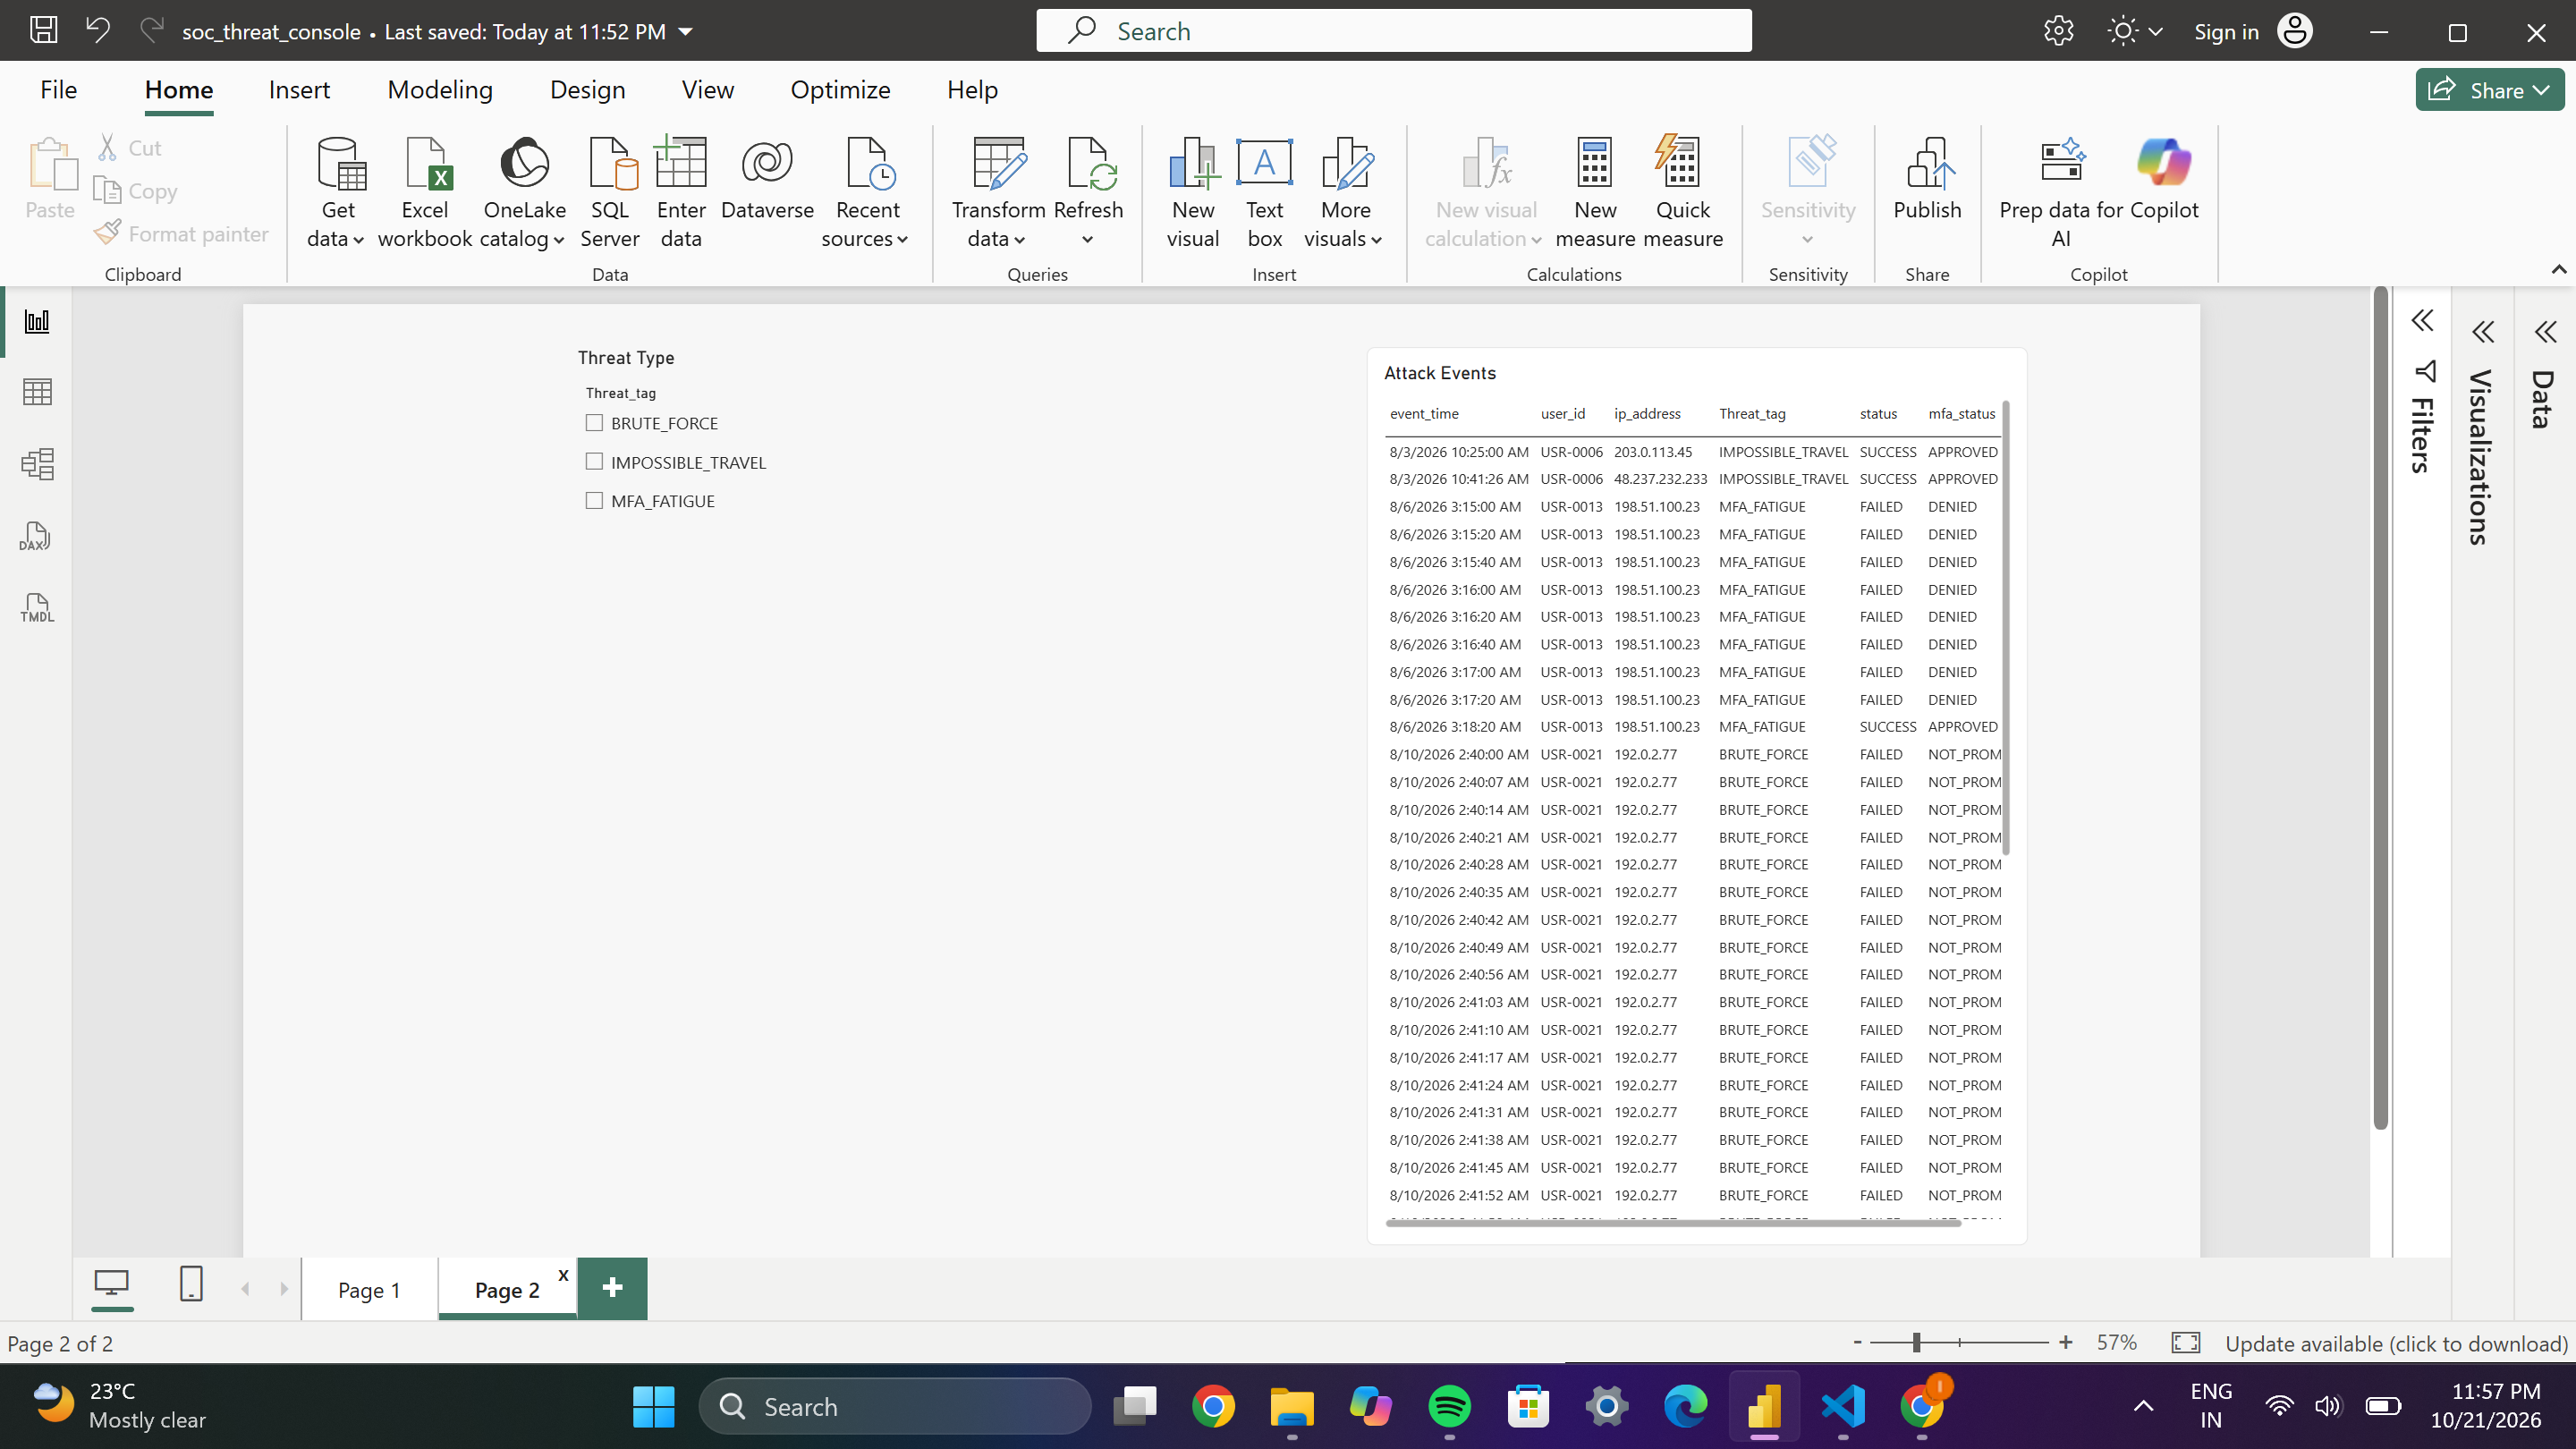

What the dashboard file says about the page in this screenshot:
{"tool":"powerbi","page":{"name":"Page 2","canvas":[1920,1080],"ordinal":1},"visuals":[{"type":"tableEx","title":"Attack Events","fields":{"Values":["public vw_fact_security_feed.event_time","public vw_fact_security_feed.user_id","public vw_fact_security_feed.ip_address","public vw_fact_security_feed.Threat_tag","public vw_fact_security_feed.status","public vw_fact_security_feed.mfa_status"]},"box":[1101.9,41.8,648.4,881.1],"z":0},{"type":"slicer","title":"Threat Type","fields":{"Values":["public vw_fact_security_feed.Threat_tag"]},"box":[328.2,41.8,662.3,855.2],"z":1}]}

Visuals, with their boxes on the page's 1920x1080 design canvas (x1, y1, x2, y2). These are canvas units, not pixel positions in the 2576x1449 screenshot, which may show the page scaled, cropped or inside an application window:
"Attack Events" tableEx: 1102:42:1750:923
"Threat Type" slicer: 328:42:990:897
